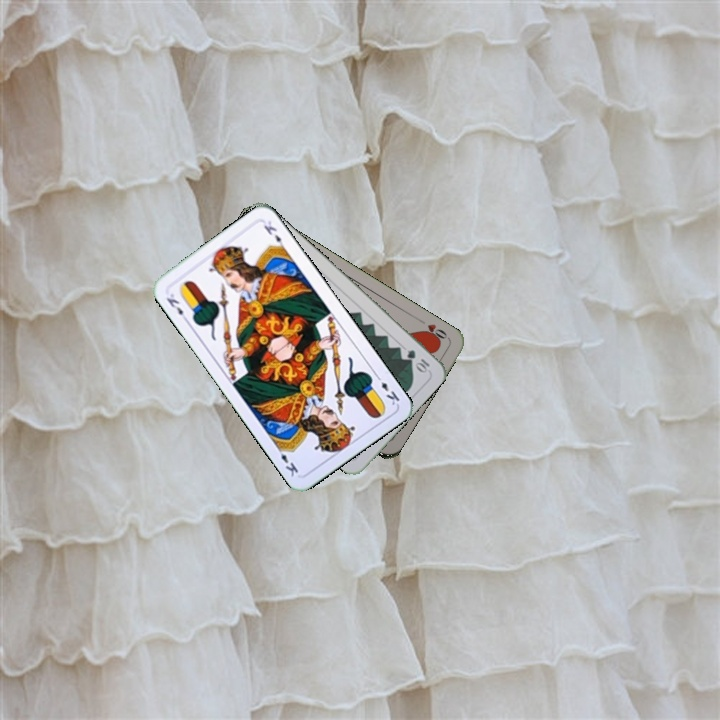EK: (371, 370, 402, 407), (162, 289, 191, 324)
G10: (403, 345, 432, 375)
HO: (414, 315, 451, 345)
